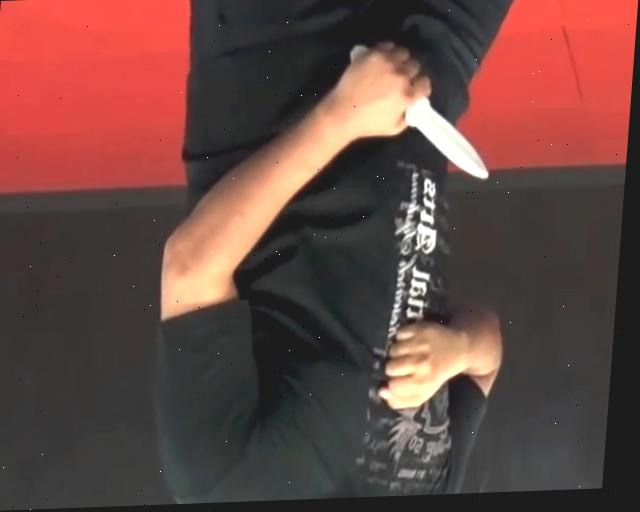pocket-knife: (333, 43, 506, 192)
